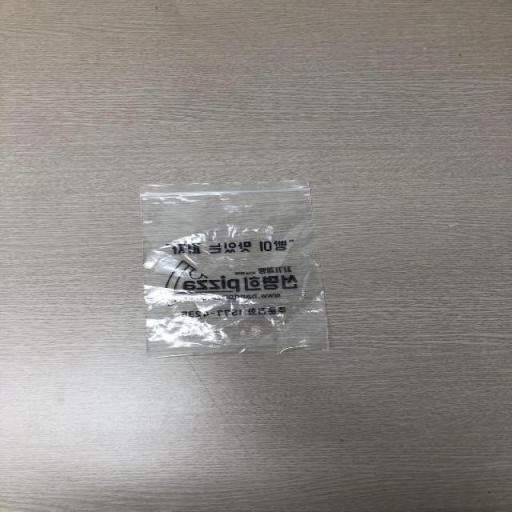plastic-bag: (136, 177, 339, 359)
